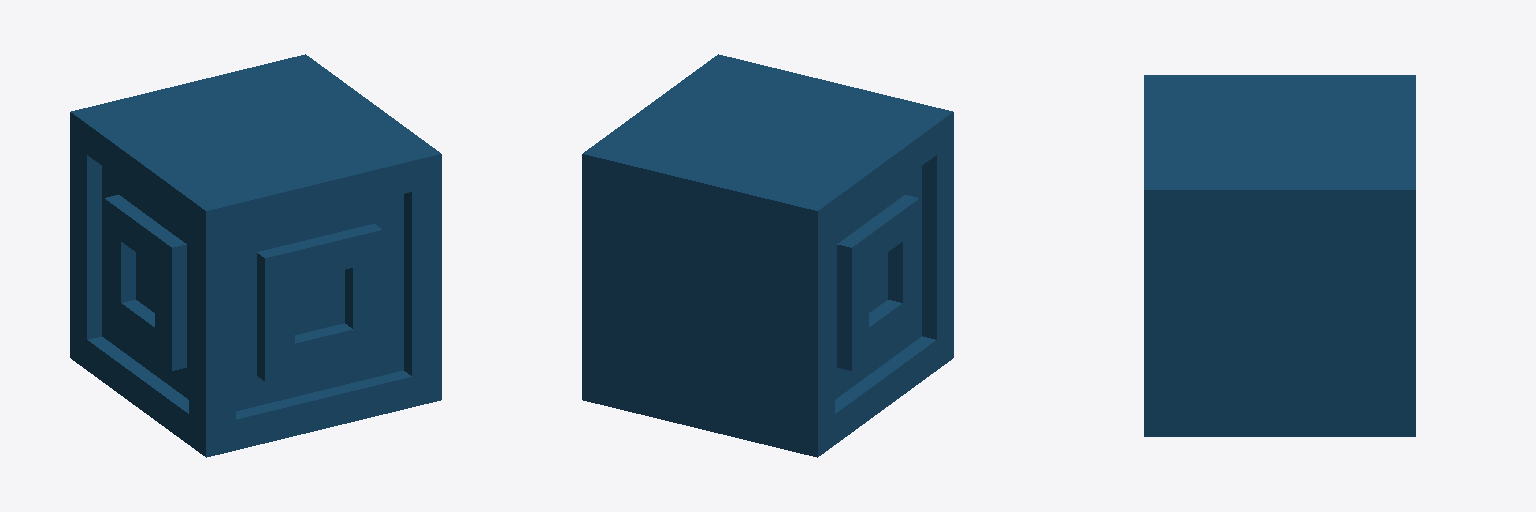
The picture shows the model from 3 angles: view 1: azimuth 30°, elevation 25°; view 2: azimuth 150°, elevation 25°; view 3: azimuth 270°, elevation 25°; orthographic projection.
Bounding box in the file's own units: 16 × 16 × 16.
Materials: 1 (1 with a texture image).